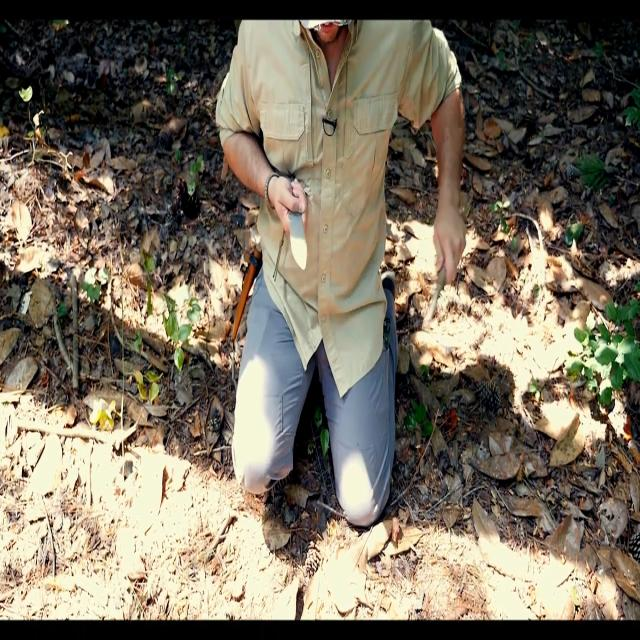knife: (287, 211, 311, 273)
